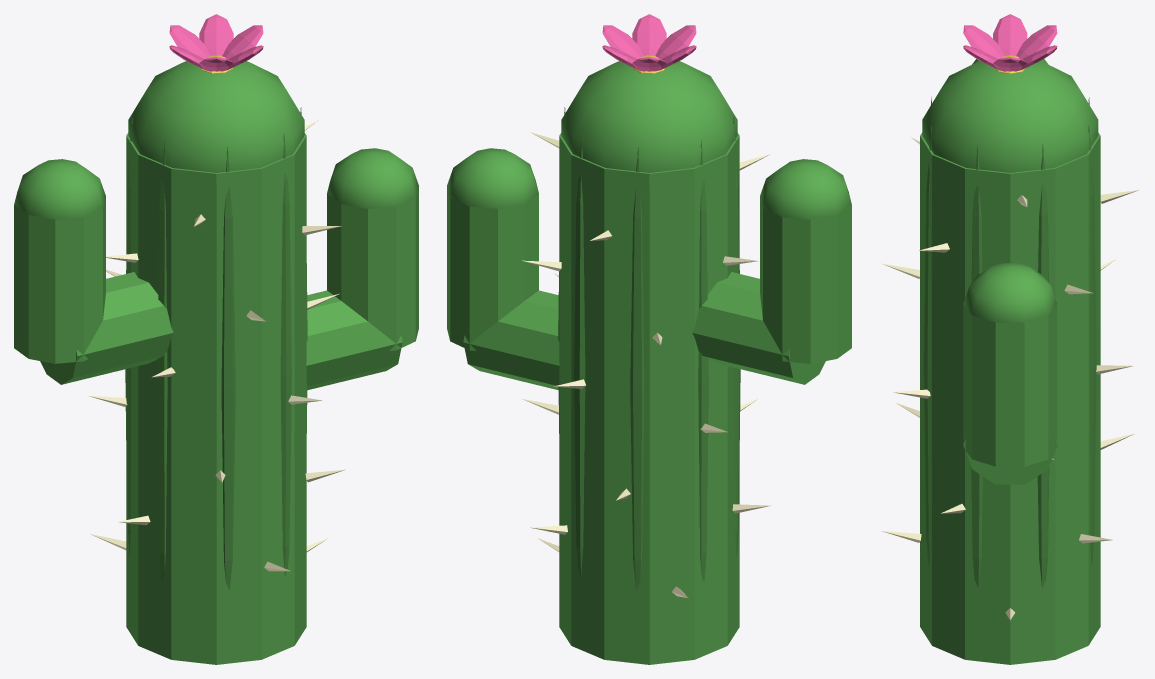
File: Planta_DragonFruit.fbx
3 views of the same model, side by side, from view 1: azimuth 30°, elevation 25°; view 2: azimuth 150°, elevation 25°; view 3: azimuth 270°, elevation 25° (orthographic).
Parts seen in each view (by area): view 1: Corpo_DragonFruit; view 2: Corpo_DragonFruit; view 3: Corpo_DragonFruit.
Boxes of the visible parts, bbox=[...] form: Corpo_DragonFruit: bbox=[14, 14, 418, 664]; Corpo_DragonFruit: bbox=[447, 14, 851, 664]; Corpo_DragonFruit: bbox=[881, 14, 1138, 664].
Bounding box in the file's own units: 2.18 × 3.16 × 1.26.
Materials: 1 (1 with a texture image).
